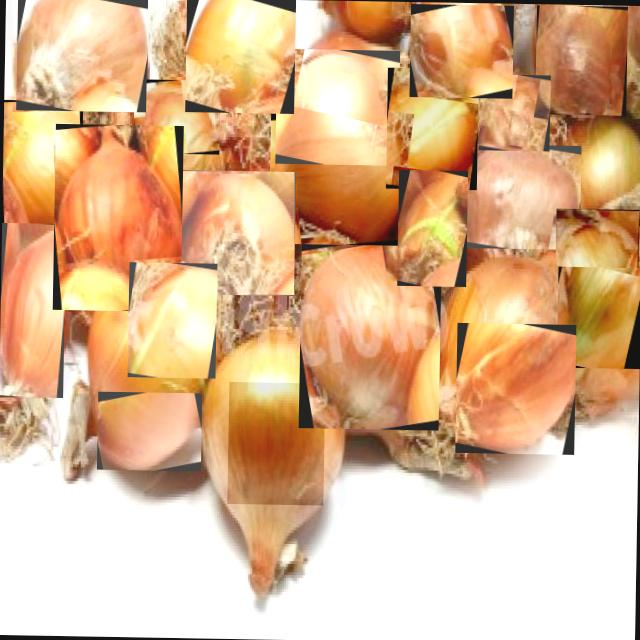healthy: (298, 240, 441, 430), (53, 124, 184, 312), (268, 114, 412, 245), (455, 322, 576, 454), (177, 170, 296, 296), (15, 0, 147, 112), (274, 48, 400, 165), (457, 143, 581, 250), (556, 217, 640, 368), (184, 0, 295, 113), (227, 381, 325, 505), (0, 222, 65, 397), (386, 67, 478, 190), (2, 100, 82, 234), (127, 262, 217, 378), (534, 5, 628, 116), (408, 3, 514, 98), (96, 391, 202, 471), (397, 170, 468, 286), (133, 78, 220, 154), (478, 74, 550, 151), (555, 208, 639, 268)
